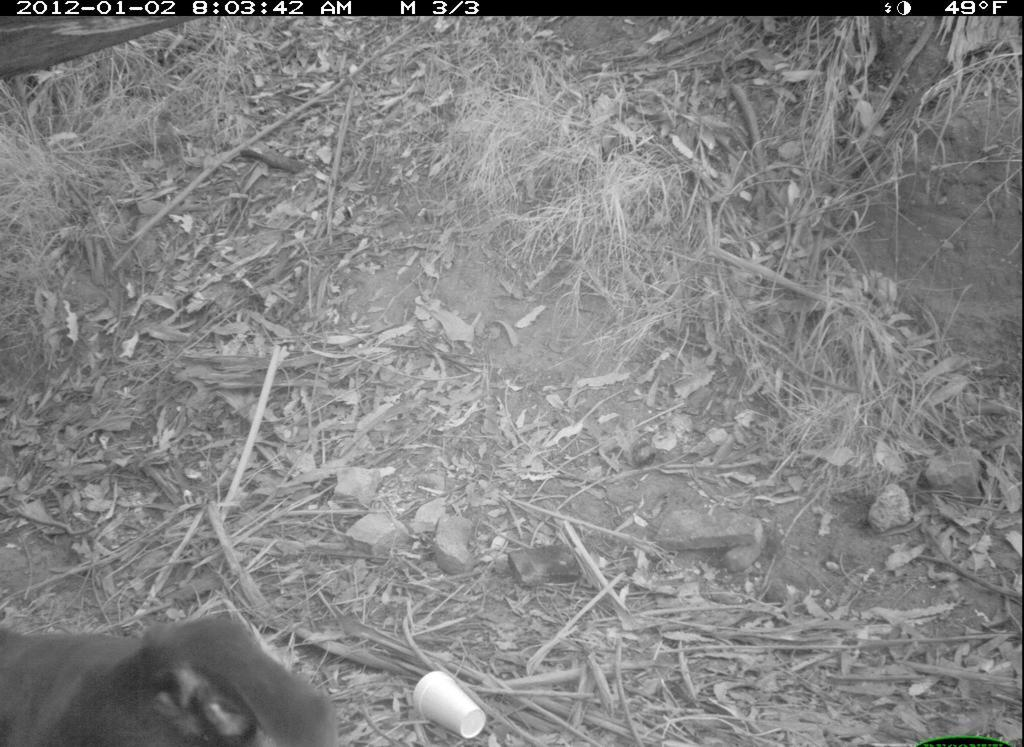dog: (2, 603, 358, 745)
